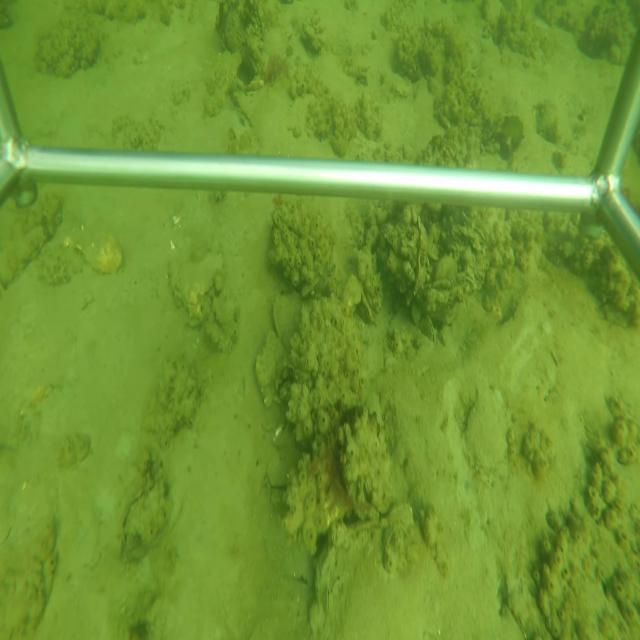Oyster-Closed: (310, 517, 389, 638), (1, 194, 65, 293), (115, 476, 173, 569), (163, 234, 225, 319), (357, 277, 377, 325)
Oyster-Indeterminate: (250, 327, 289, 410), (272, 294, 323, 357)
